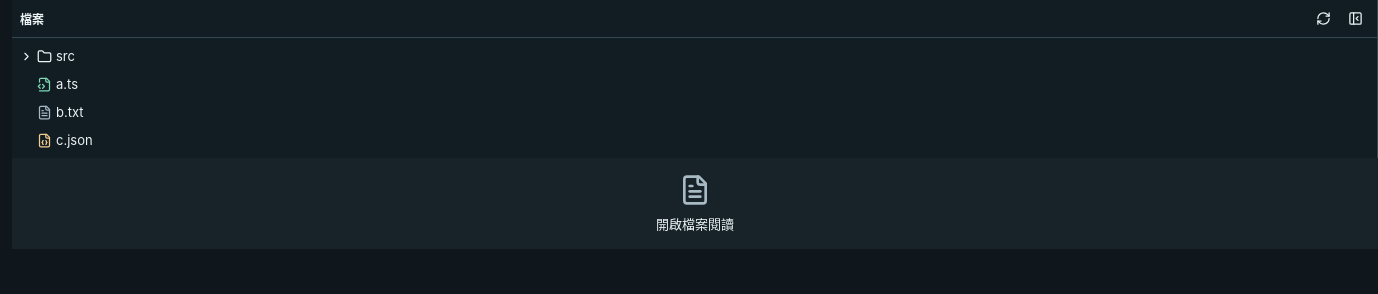
Test: late responses cannot resurrect a closed preview and refresh failure clears cached text
This screenshot has width=1378, height=294.
What coordinates should you click on to do the following:
click the button "a.ts"
I would click on:
 (44, 84)
Its box is [16, 70, 1373, 98].
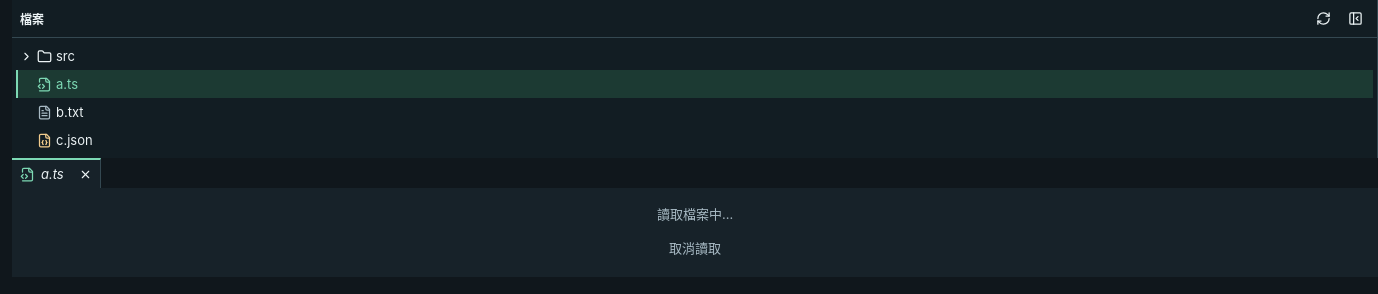
What coordinates should you click on to do the following:
click the button named "關閉檔案 a.ts"
I would click on:
 (86, 174)
Its box is [72, 160, 100, 188].
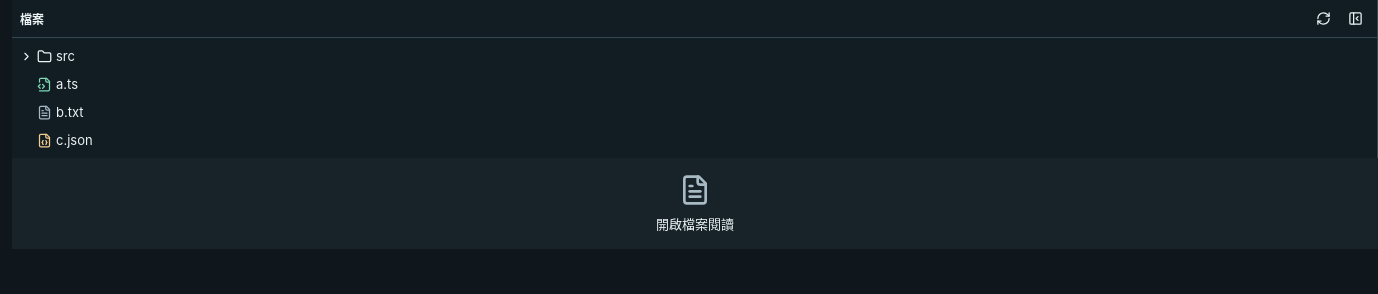
What coordinates should you click on to do the following:
click the button "b.txt"
I would click on:
 (44, 112)
Its box is [16, 98, 1373, 126].
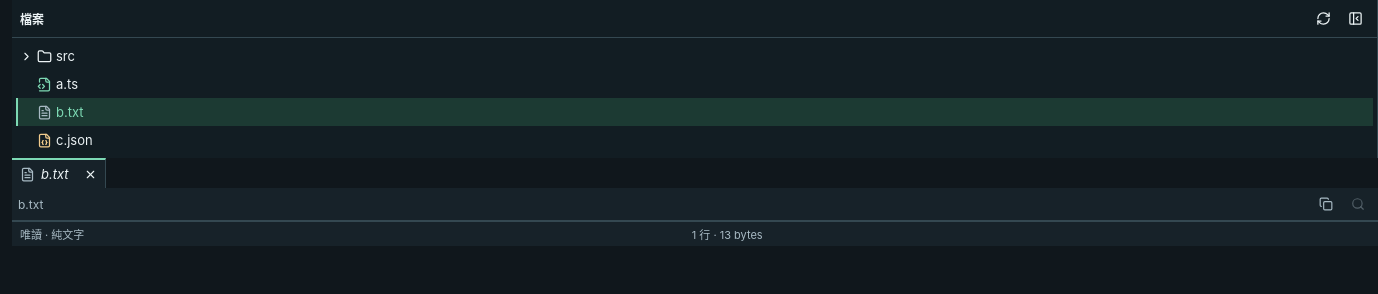
What coordinates should you click on to do the following:
click the button named "重新整理檔案"
I would click on:
 (1323, 18)
Its box is [1309, 4, 1337, 32].
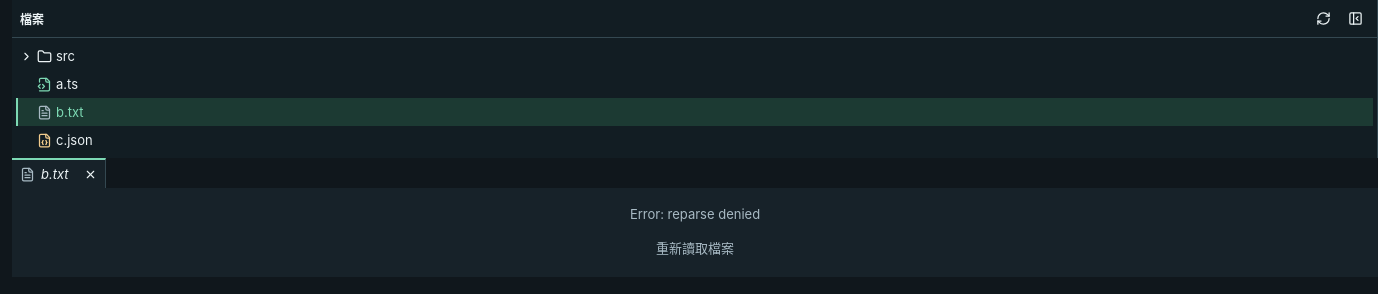
Now the message shows "reparse denied", box [630, 206, 760, 222]
Now the text "content b.txt" is gone
